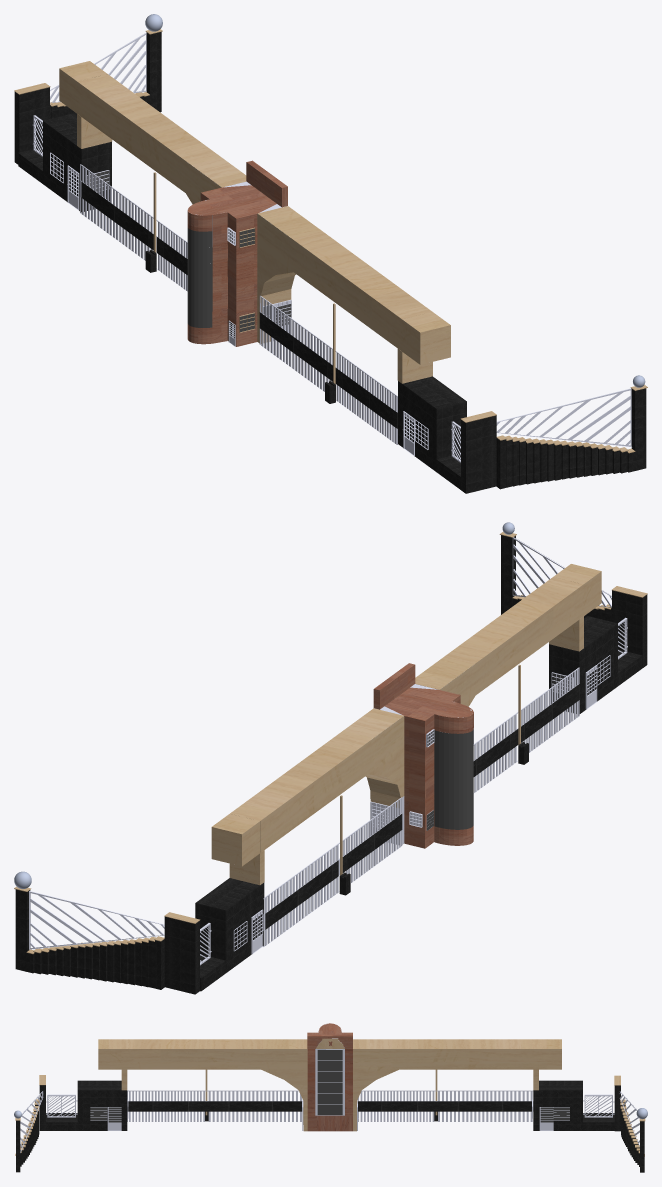
The model's file is vorodi_texture_Version.fbx.
3 views of the same model, one above another, from view 1: azimuth 30°, elevation 25°; view 2: azimuth 150°, elevation 25°; view 3: azimuth 270°, elevation 25° (orthographic). The views are drawn at different scales.
Parts seen in each view (by area): view 1: Cube.001; view 2: Cube.001; view 3: Cube.001.
Part boxes in pixels (box(x1,y1,x2,y2)): Cube.001: box(14, 14, 647, 493); Cube.001: box(14, 522, 647, 994); Cube.001: box(14, 1023, 647, 1172).
Bounding box in the file's own units: 3344 × 844 × 554.
